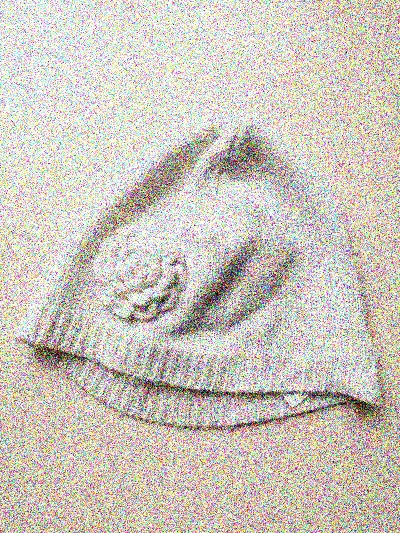Hat: (16, 94, 397, 435)
